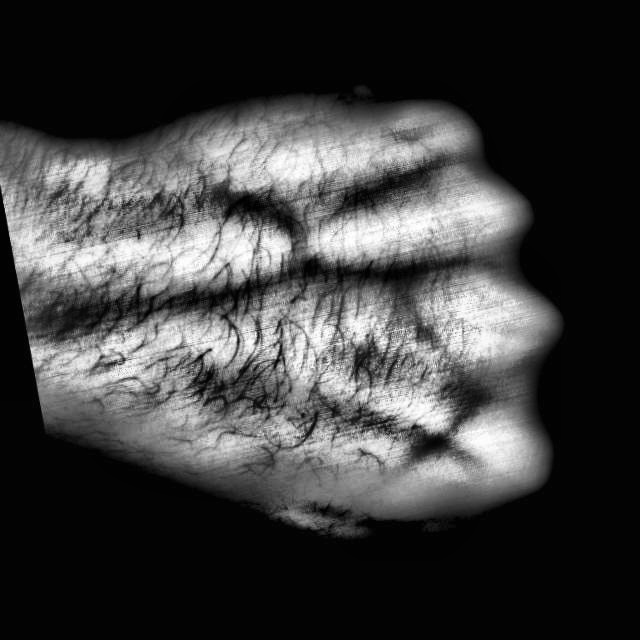Vein: (111, 255, 349, 331)
